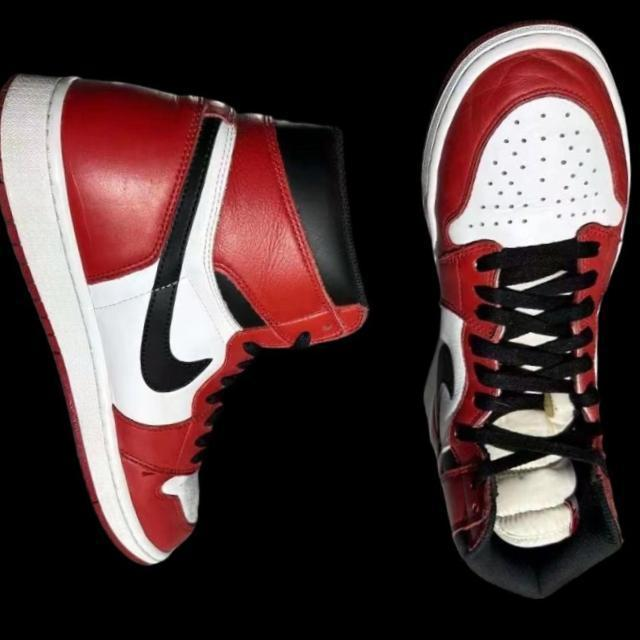nike original jordan 1: (0, 55, 383, 575), (392, 17, 640, 617)
